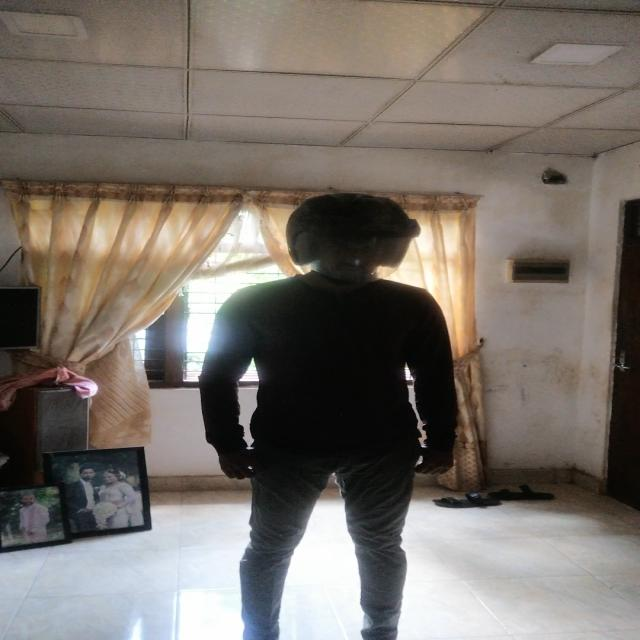Helmet_Wearer: (272, 189, 423, 293)
Person: (194, 186, 483, 640)
